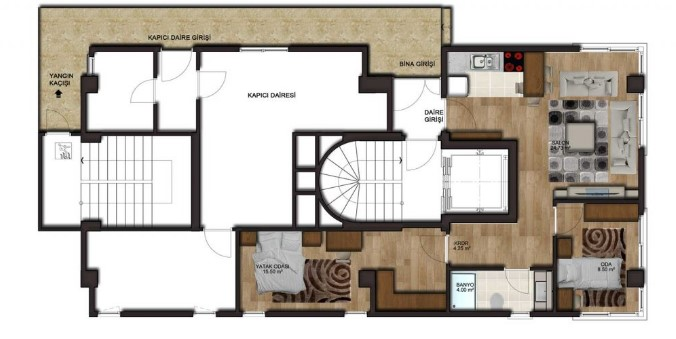door: (404, 146, 437, 181), (160, 54, 193, 86), (205, 67, 234, 101), (123, 77, 150, 113), (203, 232, 232, 264), (502, 275, 532, 297)
room: (507, 39, 647, 205), (234, 221, 453, 319), (186, 43, 400, 141), (79, 222, 244, 339), (552, 198, 651, 324), (79, 43, 160, 137)
